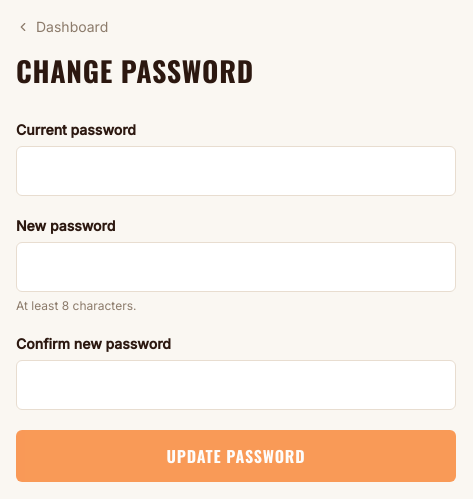
Scenario: ChangePasswordPage › shows success state after valid submit
Type "oldpass123" into the password field labelled "Current password".
click(236, 171); type("oldpass123")  # box top-left (16, 146), bottom-right (456, 196)
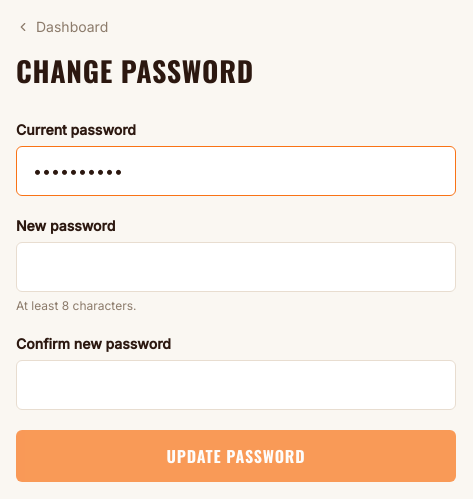
Type "newpass123" into the password field labelled "New password".
click(236, 267); type("newpass123")  # box top-left (16, 242), bottom-right (456, 292)
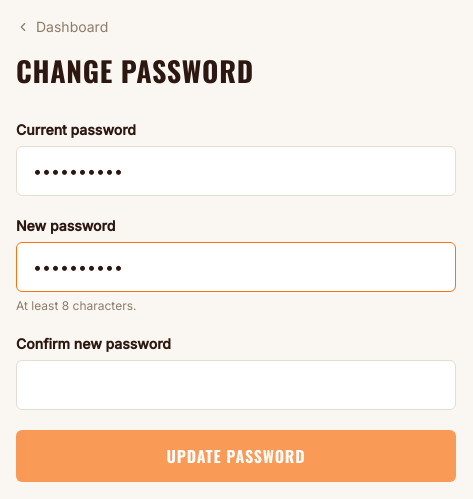
Type "newpass123" into the password field labelled "Confirm new password".
click(236, 385); type("newpass123")  # box top-left (16, 360), bottom-right (456, 410)
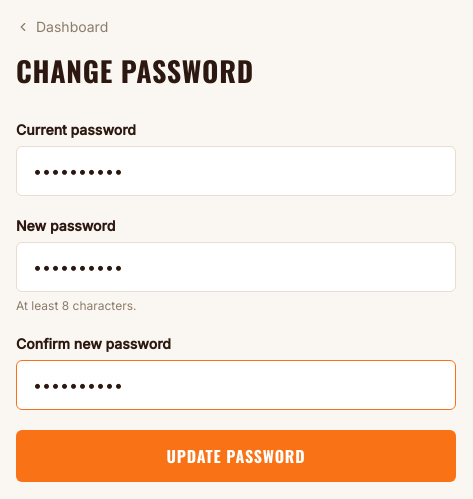
Click the button "Update password".
click(236, 456)  # box top-left (16, 430), bottom-right (456, 482)
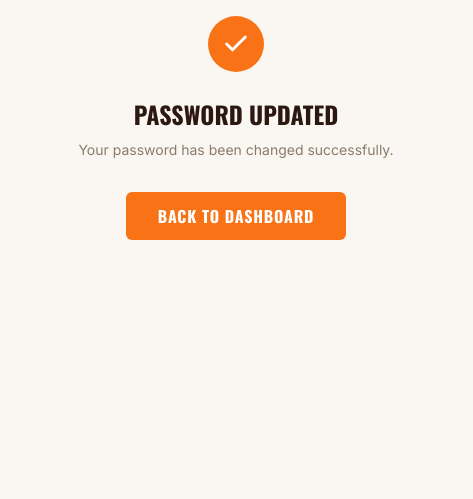
Now the heading "Password updated" is shown, box top-left (134, 96), bottom-right (338, 132)
